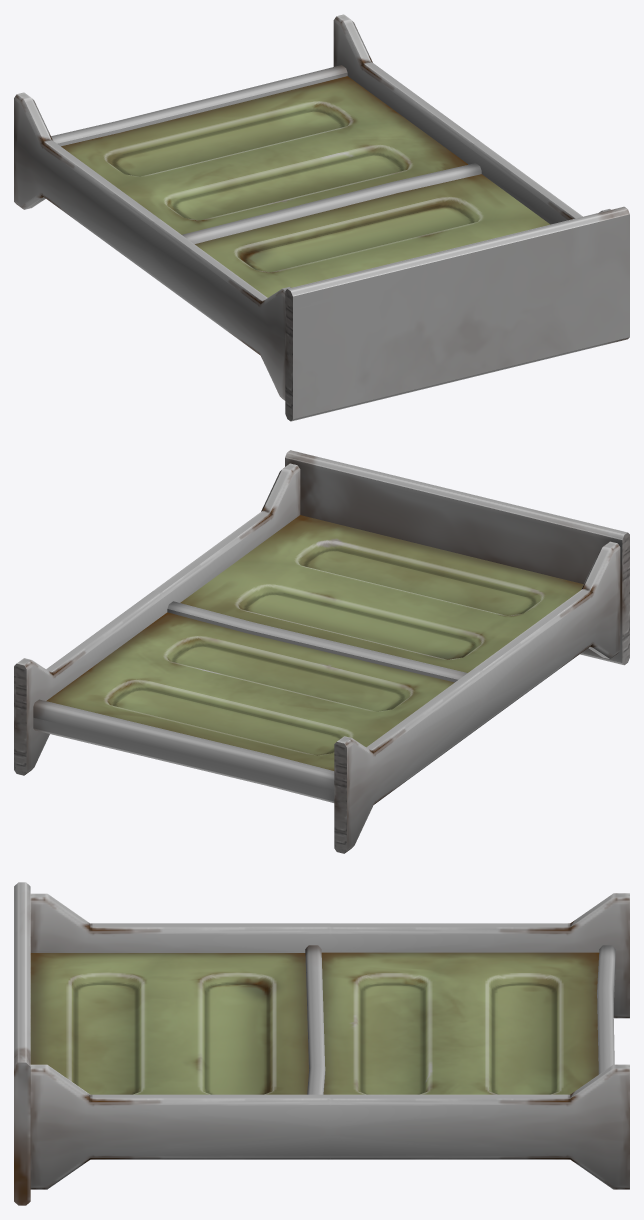
The model's file is HubWall1.FBX.
3 views of the same model, one above another, from view 1: azimuth 30°, elevation 25°; view 2: azimuth 150°, elevation 25°; view 3: azimuth 270°, elevation 25° (orthographic). The views are drawn at different scales.
Visible parts, largest first — view 1: HubWall1_LOD0; view 2: HubWall1_LOD0; view 3: HubWall1_LOD0.
Part boxes in pixels (x1,y1,x2,y2): HubWall1_LOD0: [14, 14, 629, 421]; HubWall1_LOD0: [14, 450, 629, 853]; HubWall1_LOD0: [14, 882, 629, 1205].
Size of what is drawn, in the model's own units: 5.24 by 1.94 by 7.57.
